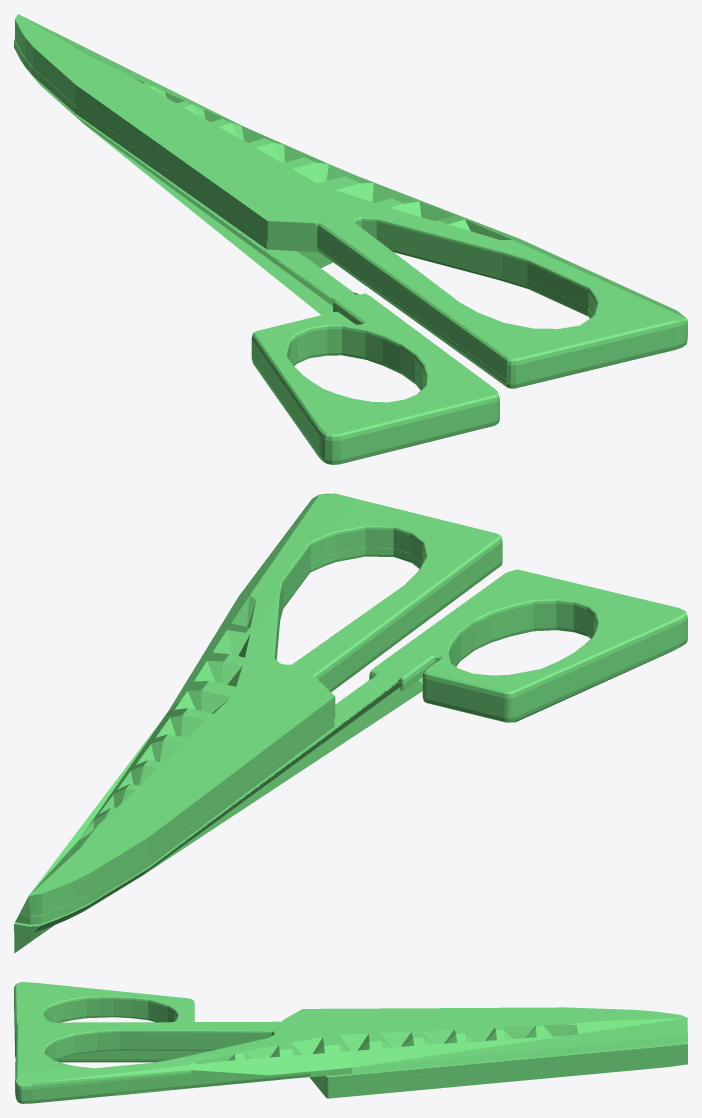
The picture shows the model from 3 angles, top to bottom: view 1: azimuth 30°, elevation 25°; view 2: azimuth 150°, elevation 25°; view 3: azimuth 270°, elevation 25°; orthographic projection. The views are drawn at different scales.
Parts seen in each view (by area): view 1: 3.005, 3.004; view 2: 3.005, 3.004; view 3: 3.005, 3.004.
Boxes of the visible parts, <box> form: 3.005: <box>14,14,687,388</box>; 3.004: <box>18,56,499,464</box>; 3.005: <box>15,493,502,924</box>; 3.004: <box>14,569,687,953</box>; 3.005: <box>15,1007,687,1103</box>; 3.004: <box>14,982,687,1098</box>.
Size of the model in its own units: 0.1816 by 0.0298 by 0.4158.
